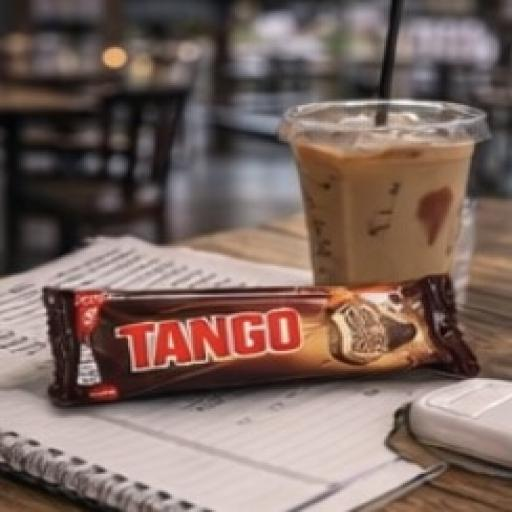tango: (23, 224, 488, 441)
